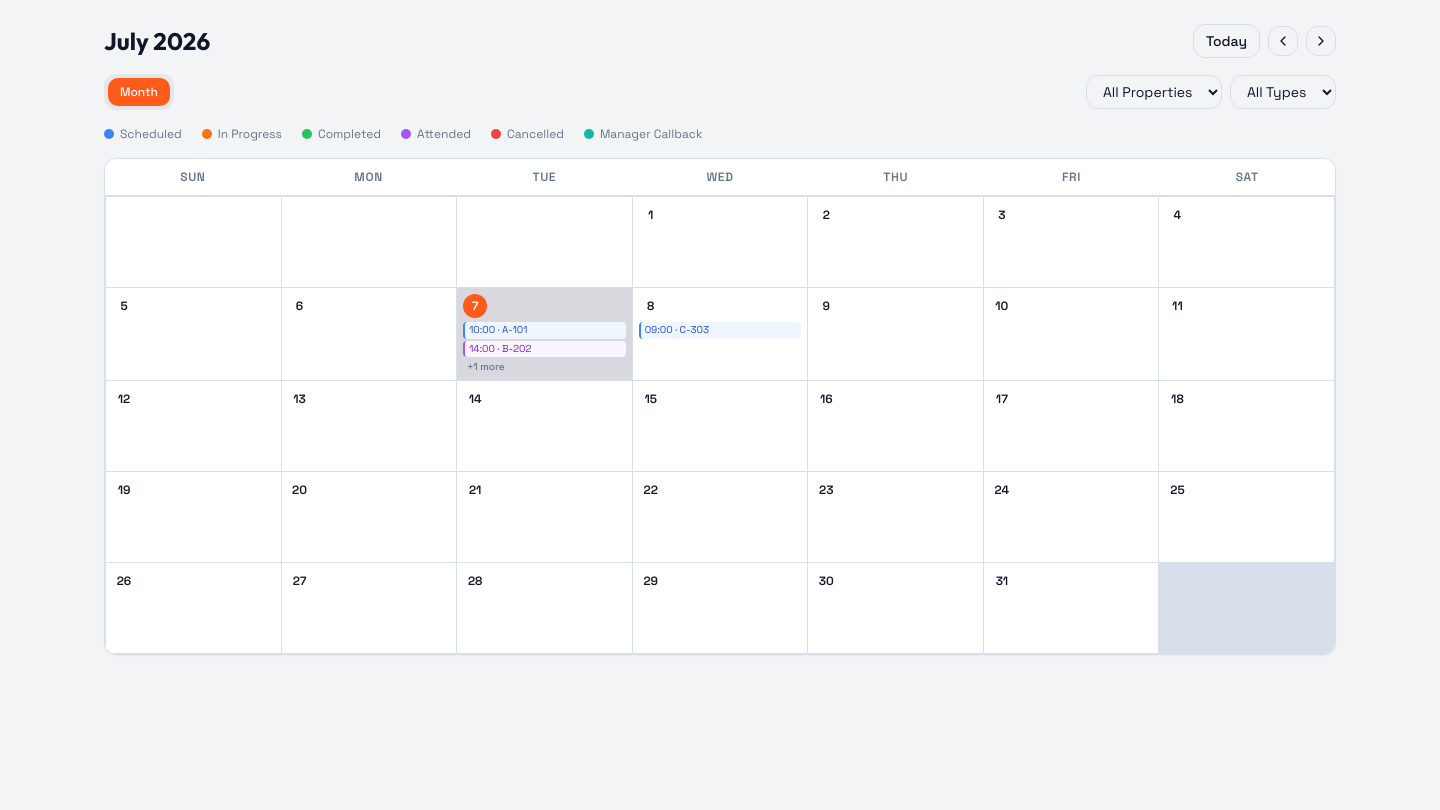
Test: CalendarView › navigates to the previous month on chevron-left click
Header buttons: [Today, ChevronLeft (prev), ChevronRight (next)]
Click the 2nd button at (1283, 41), box [1268,26,1298,56]
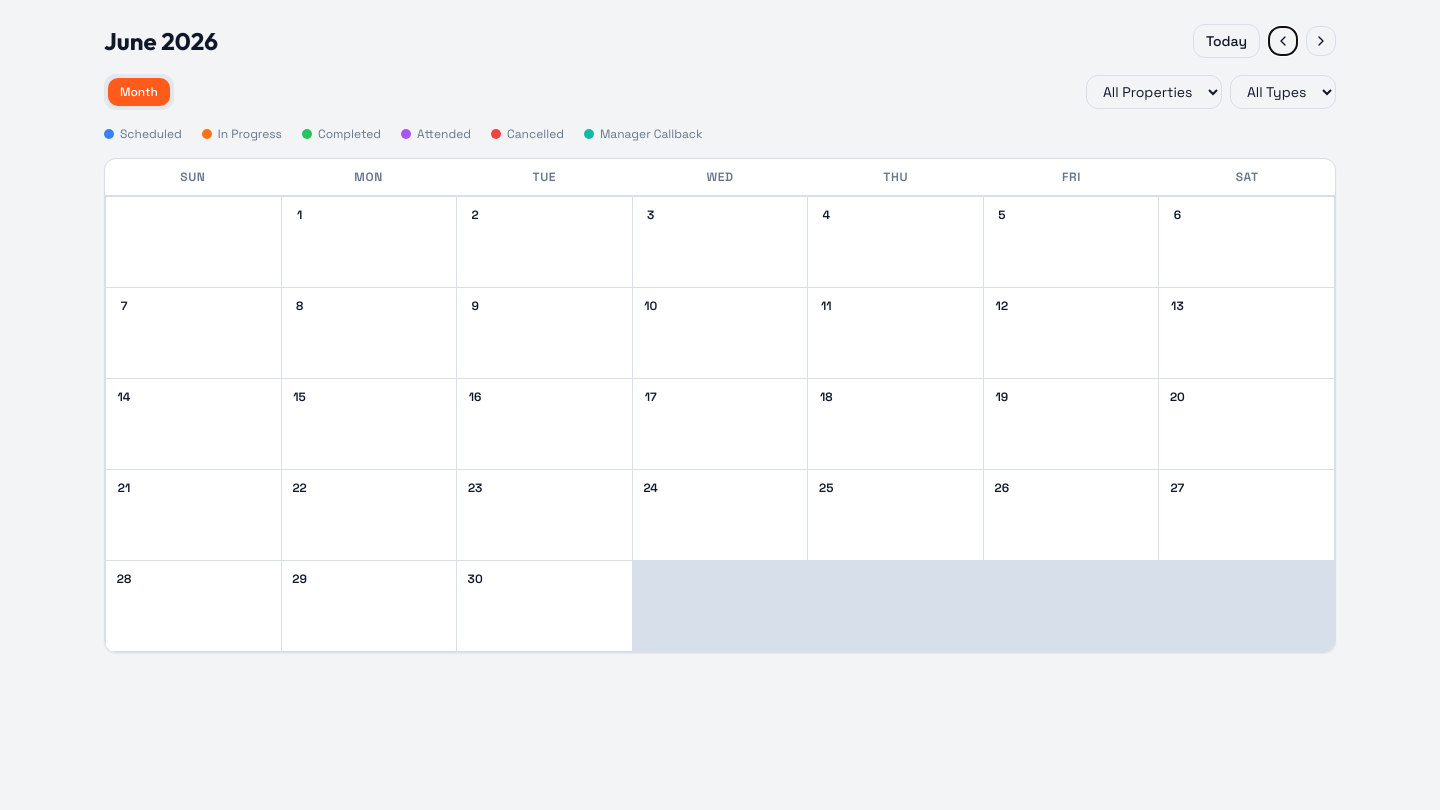
Expected: the heading "June 2026" is shown, [104,25,218,57]
